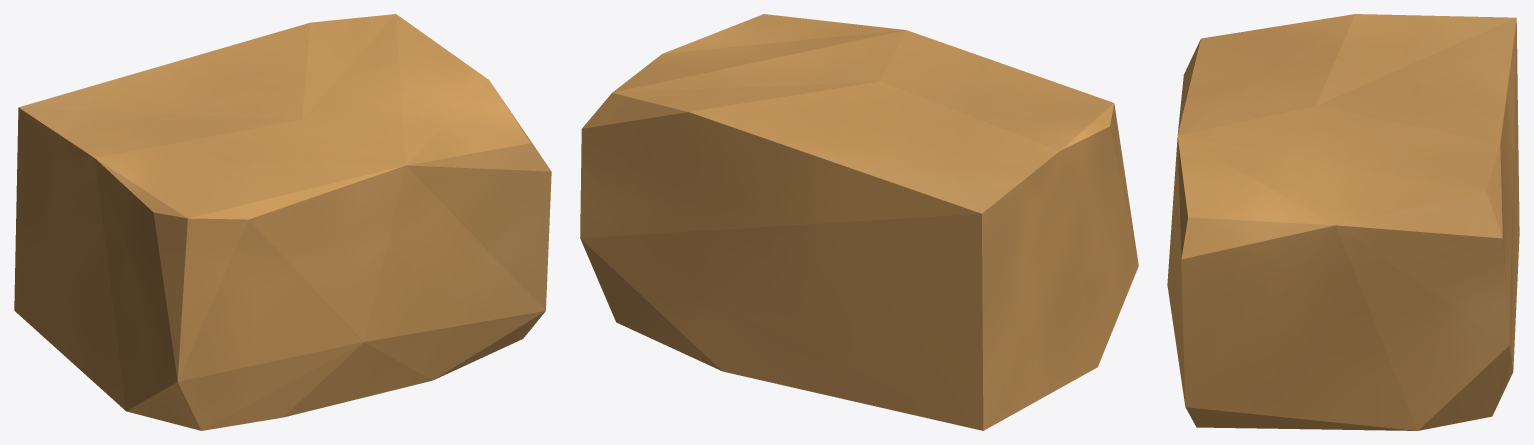
The model's file is Slab_02.fbx.
3 renders of one model, left to right at view 1: azimuth 30°, elevation 25°; view 2: azimuth 150°, elevation 25°; view 3: azimuth 270°, elevation 25°, orthographic. The views are drawn at different scales.
Visible parts, largest first — view 1: Slab_02; view 2: Slab_02; view 3: Slab_02.
Part boxes in pixels (left/top/right/bottom): Slab_02: left=14, top=14, right=551, bottom=430; Slab_02: left=580, top=14, right=1138, bottom=430; Slab_02: left=1167, top=14, right=1519, bottom=430.
Bounding box in the file's own units: 249 × 150 × 182.
Materials: 1 (1 with a texture image).
